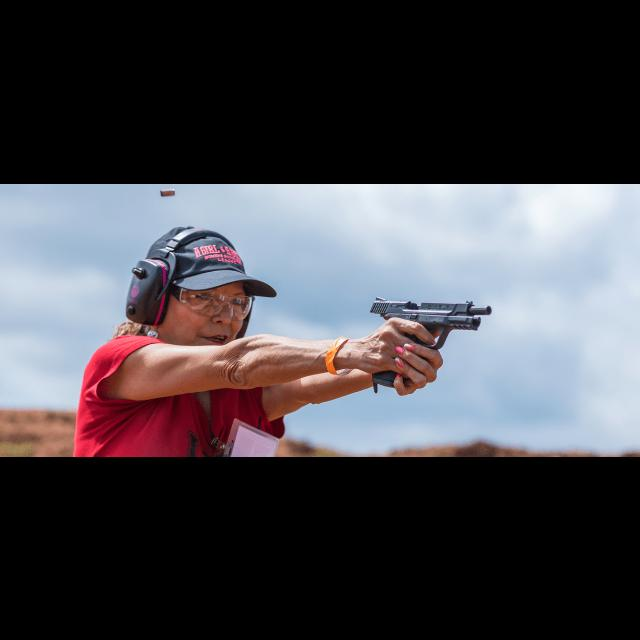handgun: (368, 292, 494, 352)
